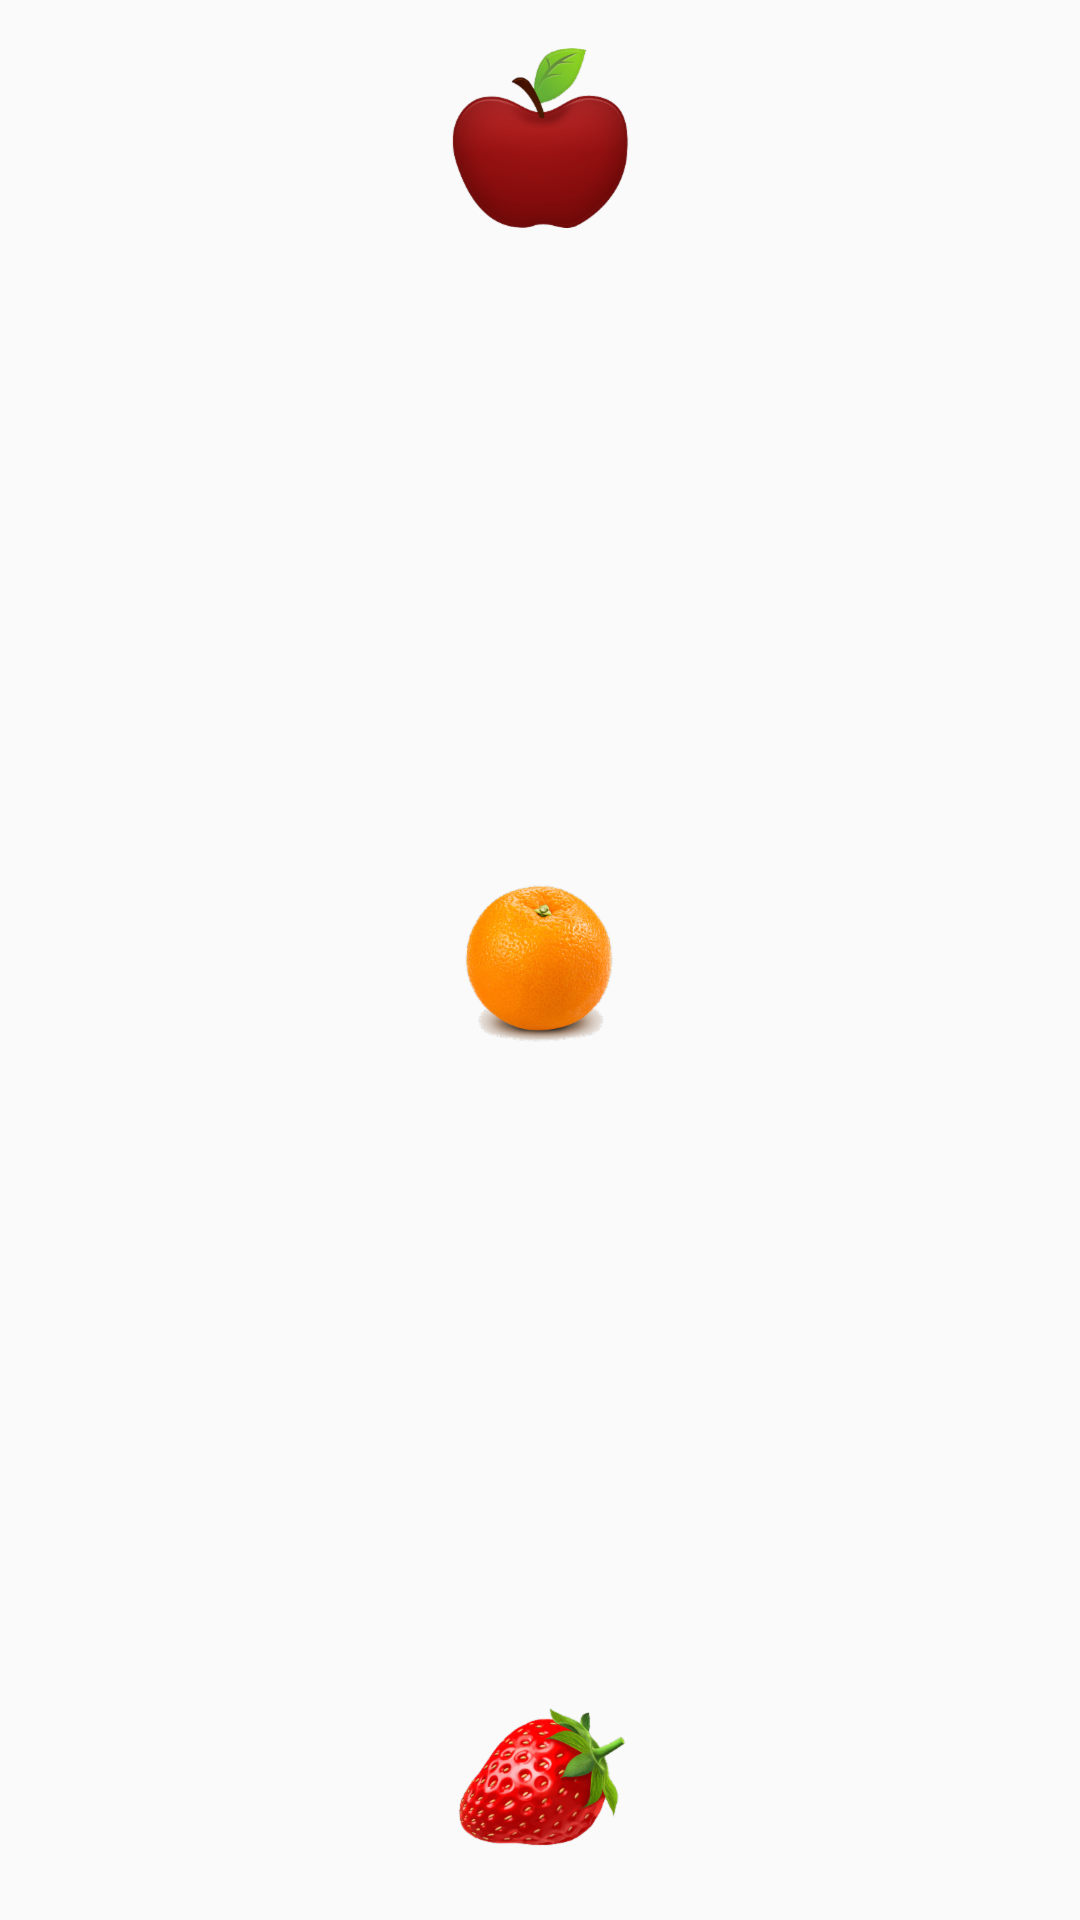

Screen size 1080x1920. Icon name, then its box in pixels as (x1, y1, x2, y2):
apple: (452, 48, 628, 228)
strawberry: (459, 1708, 625, 1846)
